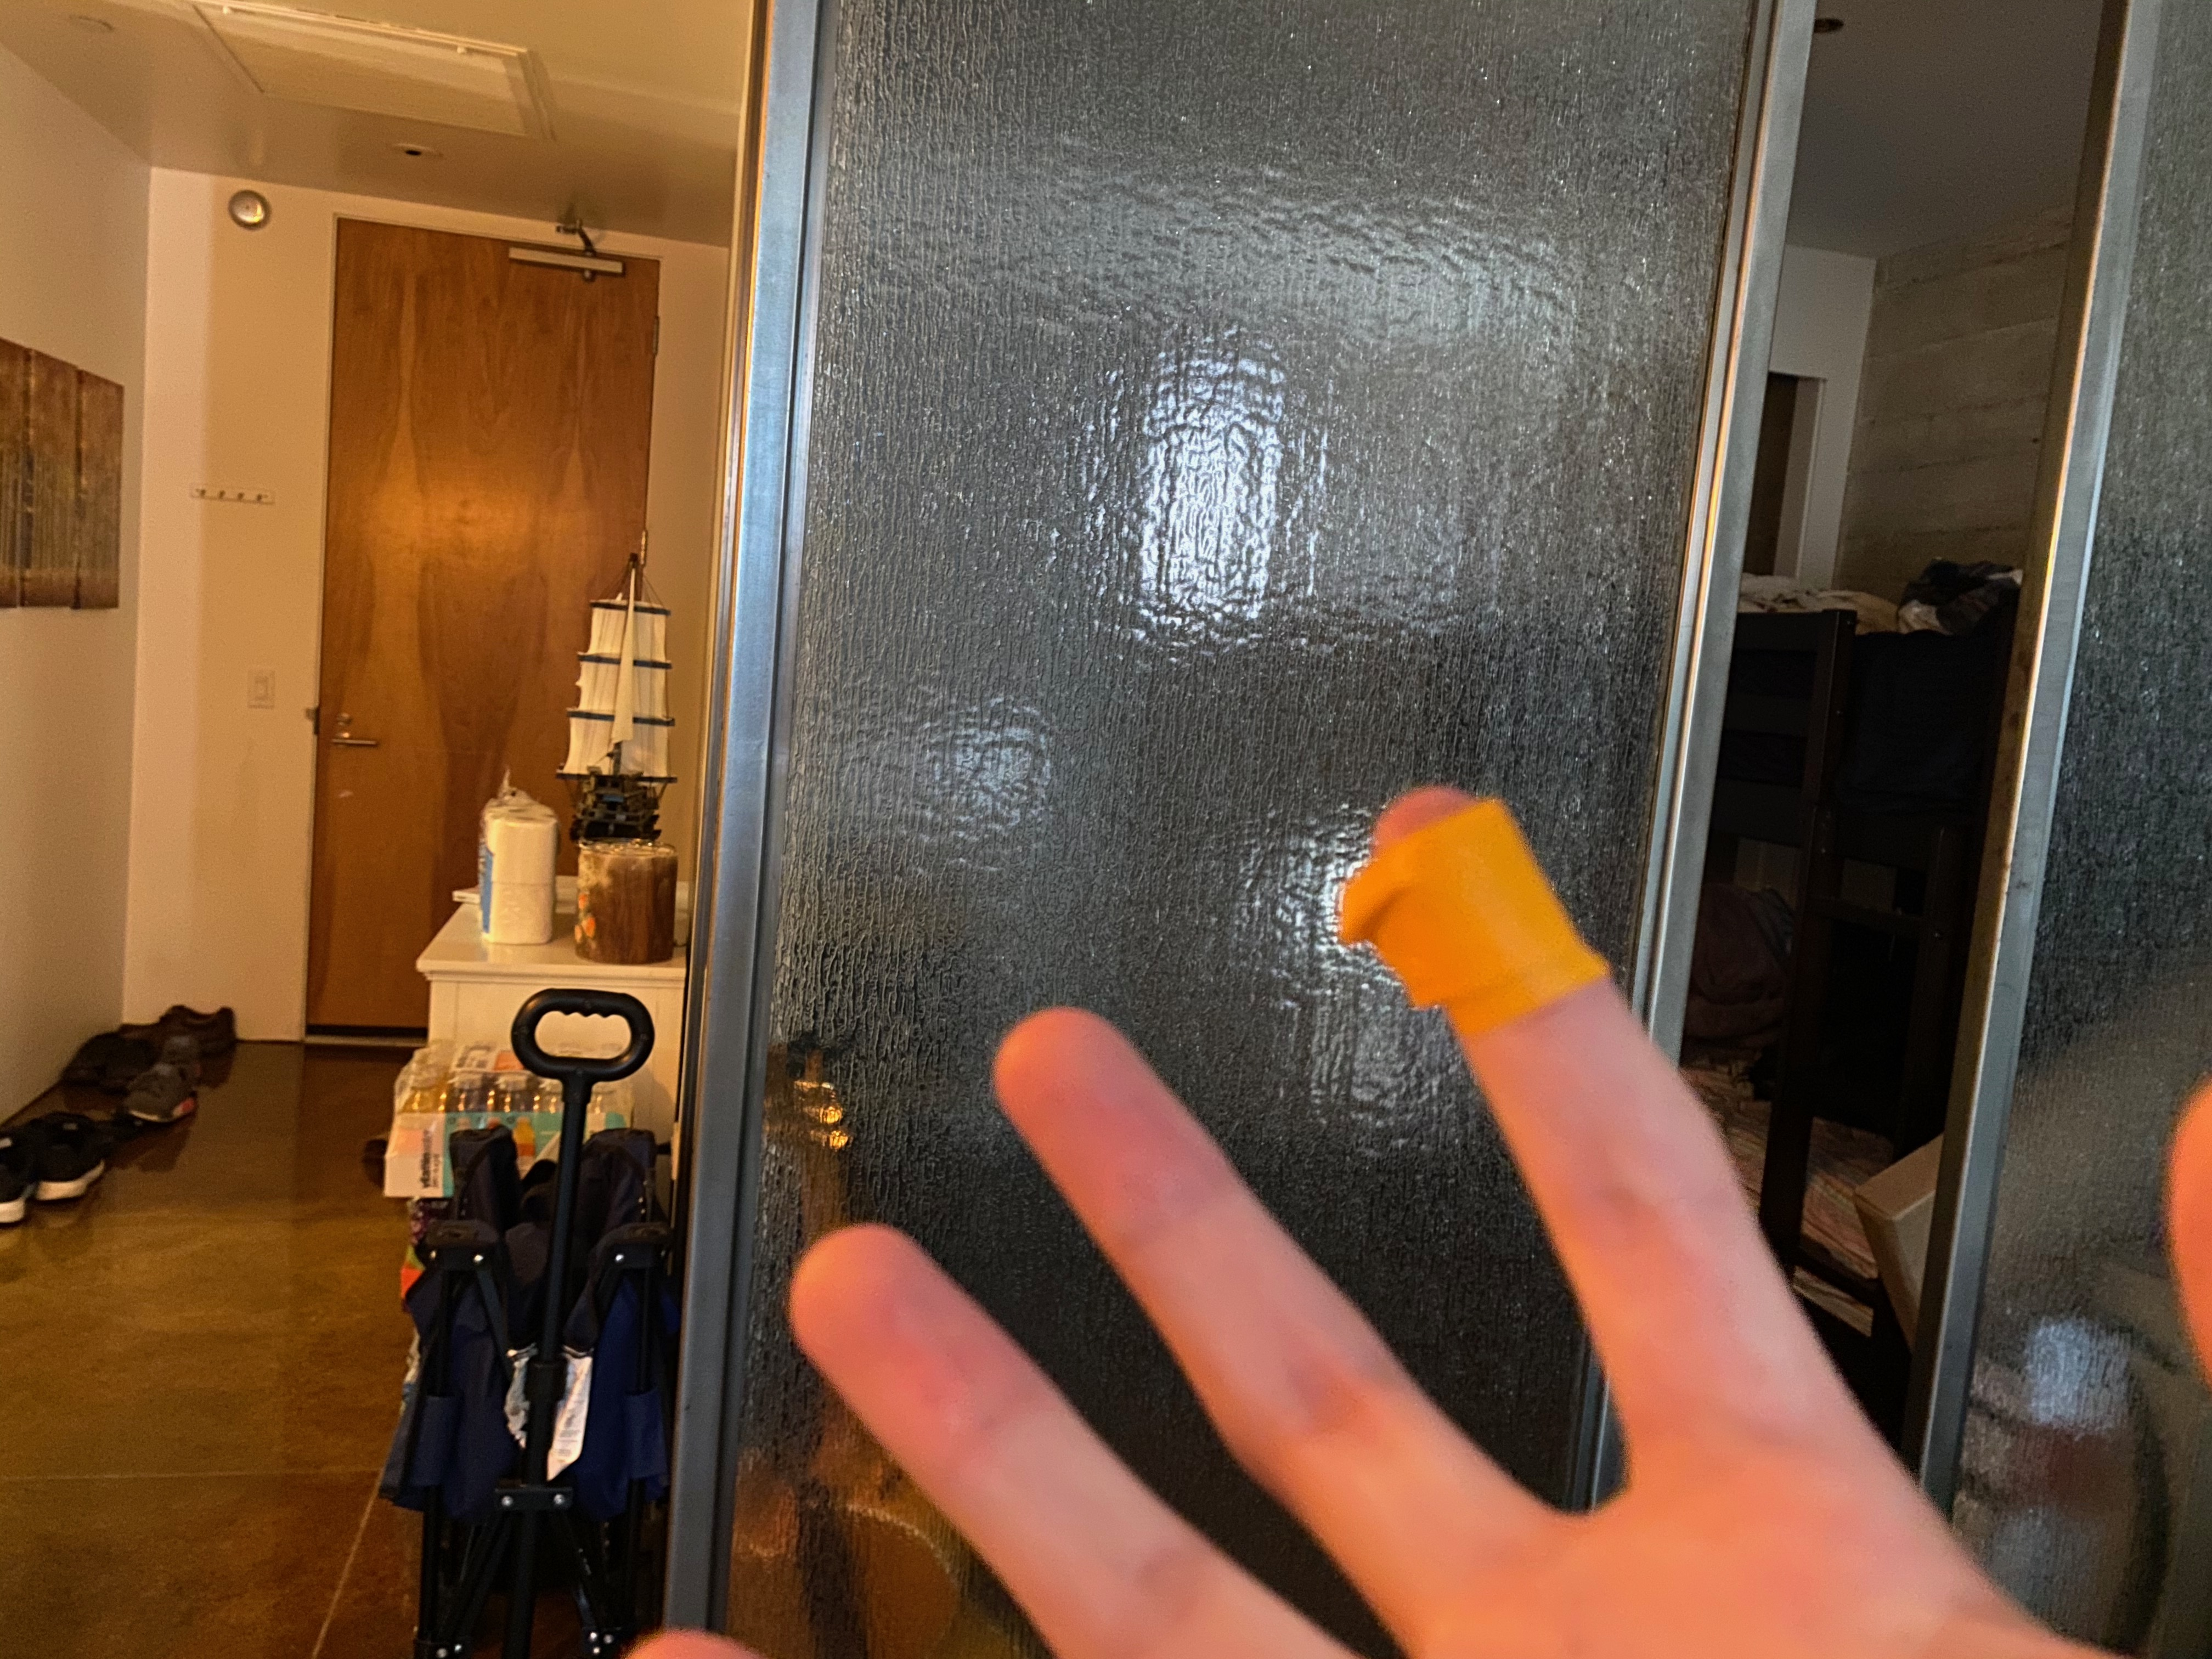fingertip: (1291, 769, 1656, 1091)
